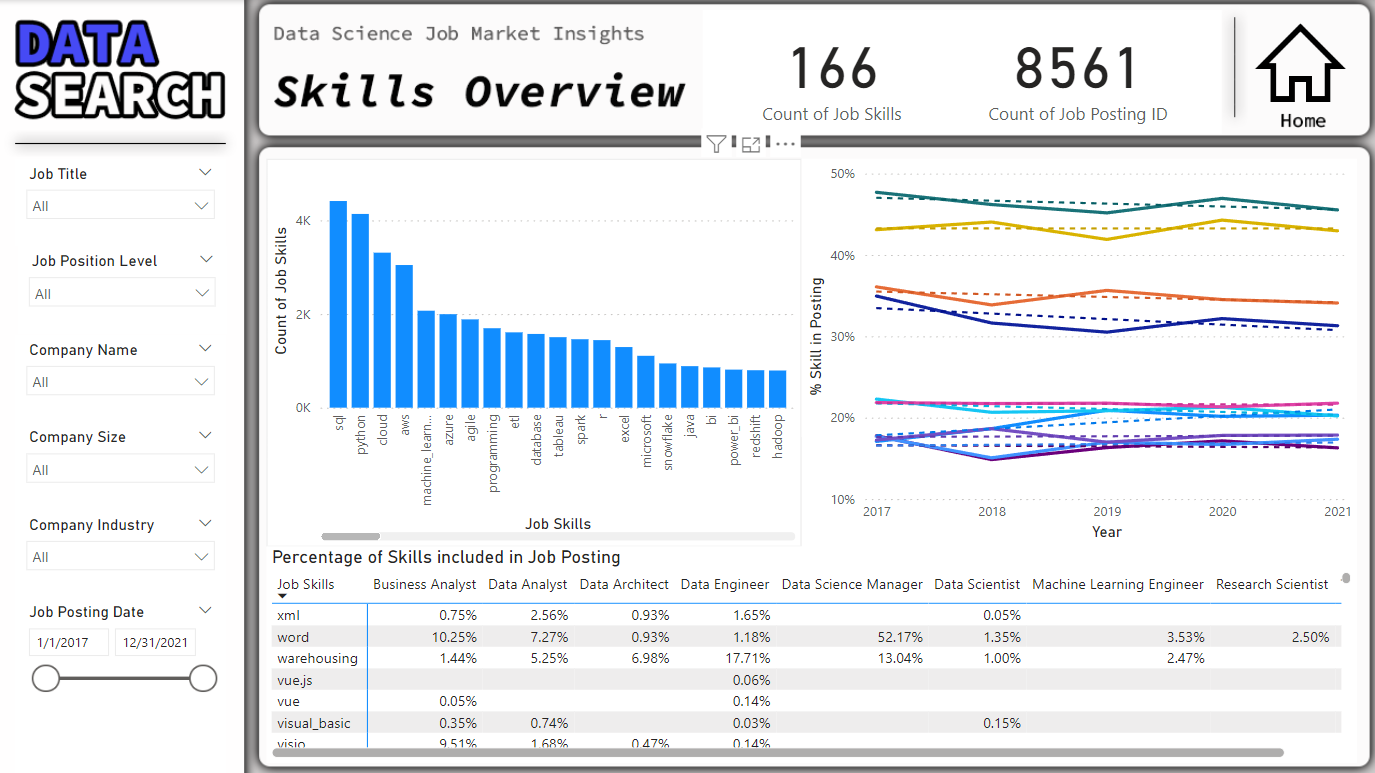

Layout of this report page (visuals, bound fields, positions):
{"tool":"powerbi","page":{"name":"Skills","canvas":[1280,720],"ordinal":8},"visuals":[{"type":"slicer","fields":{"Values":["Job Postings.Job Title"]},"box":[15.5,147.9,195.8,81.7],"z":0},{"type":"slicer","fields":{"Values":["Job Postings.Job Position Level"]},"box":[16.9,229.6,194.4,81.7],"z":1000},{"type":"slicer","fields":{"Values":["Job Postings.Company Name"]},"box":[15.5,311.3,195.8,81.7],"z":2000},{"type":"slicer","fields":{"Values":["Job Postings.Company Size"]},"box":[15.5,393,195.8,81.7],"z":3000},{"type":"slicer","fields":{"Values":["Job Postings.Company Industry"]},"box":[15.5,474.6,195.8,81.7],"z":4000},{"type":"slicer","fields":{"Values":["Job Postings.Job Posting Date"]},"box":[15.5,556.3,195.8,163.4],"z":5000},{"type":"columnChart","fields":{"Category":["Job Skills.Job Skills"],"Y":["CountNonNull(Job Skills.Job Skills)"]},"box":[249.3,147.9,497.2,360.6],"z":6000},{"type":"lineChart","fields":{"Category":["Job Postings.Job Posting Date.Variation.Date Hierarchy.Year","Job Postings.Job Posting Date.Variation.Date Hierarchy.Quarter","Job Postings.Job Posting Date.Variation.Date Hierarchy.Month","Job Postings.Job Posting Date.Variation.Date Hierarchy.Day"],"Y":["_Measures.% Skill in Posting"],"Series":["Job Skills.Job Skills"]},"box":[746.5,147.9,516.9,360.6],"z":7000},{"type":"pivotTable","title":"Percentage of Skills  included in Job Posting","fields":{"Rows":["Job Skills.Job Skills"],"Values":["_Measures.% Skill in Posting"],"Columns":["Job Postings.Job Title"]},"box":[249.3,508.5,1014.1,201.4],"z":8000},{"type":"card","fields":{"Values":["Count(Job Skills.Job Skills)"]},"box":[654.9,9.9,240.8,115.5],"z":9000},{"type":"card","fields":{"Values":["Count(Job Skills.Job Posting ID)"]},"box":[870.4,9.9,266.2,115.5],"z":10000},{"type":"image","box":[1154.9,11.3,111.3,94.4],"z":10001}]}

Visuals, with their boxes in screenshot pixels (x1, y1, x2, y2), scaled from the page's 1280x720 canvas onto the 1375x773 screenshot:
slicer - Job Postings.Job Title: 17 159 227 247
slicer - Job Postings.Job Position Level: 18 247 227 334
slicer - Job Postings.Company Name: 17 334 227 422
slicer - Job Postings.Company Size: 17 422 227 510
slicer - Job Postings.Company Industry: 17 510 227 597
slicer - Job Postings.Job Posting Date: 17 597 227 772
columnChart - Job Skills.Job Skills x CountNonNull(Job Skills.Job Skills): 268 159 802 546
lineChart - Job Postings.Job Posting Date.Variation.Date Hierarchy.Year x Job Postings.Job Posting Date.Variation.Date Hierarchy.Quarter: 802 159 1357 546
"Percentage of Skills  included in Job Posting" pivotTable: 268 546 1357 762
card - Count(Job Skills.Job Skills): 704 11 962 135
card - Count(Job Skills.Job Posting ID): 935 11 1221 135
image: 1241 12 1360 113
